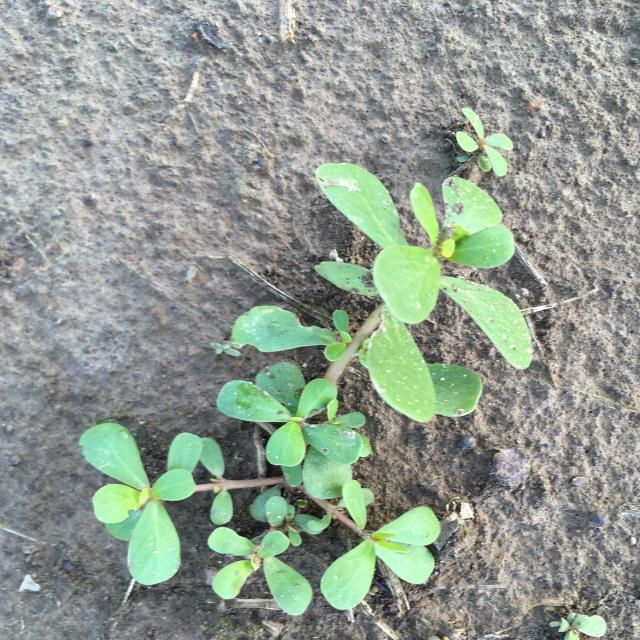Purslane: (79, 108, 532, 616)
